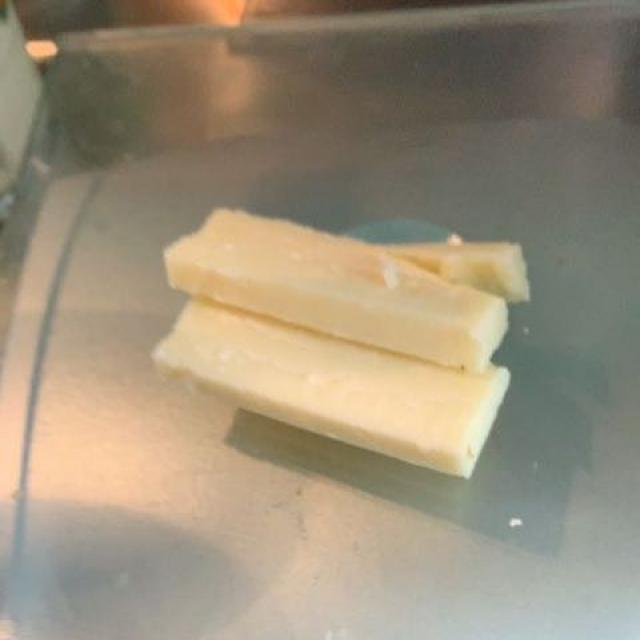cheese: (132, 192, 554, 503)
